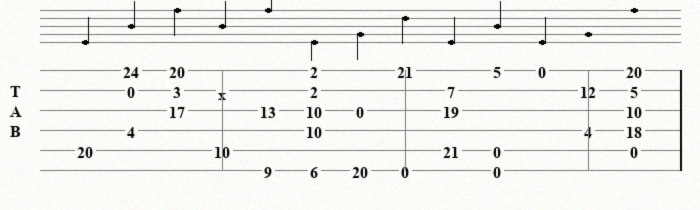0: (127, 83, 139, 98), (356, 103, 368, 118), (401, 163, 413, 178), (493, 143, 505, 158), (493, 163, 505, 178), (538, 63, 550, 78), (630, 143, 642, 158)
10: (214, 143, 234, 158), (306, 103, 326, 118), (306, 123, 326, 138), (626, 103, 646, 118)
12: (580, 83, 600, 98)
13: (260, 103, 280, 118)
17: (169, 103, 189, 118)
18: (626, 123, 646, 138)
19: (443, 103, 463, 118)
2: (310, 83, 322, 98), (310, 63, 322, 78)
20: (77, 143, 97, 158), (169, 63, 189, 78), (352, 163, 372, 178), (626, 63, 646, 78)
21: (397, 63, 417, 78), (443, 143, 463, 158)
24: (123, 63, 143, 78)
3: (173, 83, 185, 98)
4: (127, 123, 139, 138), (584, 123, 596, 138)
5: (493, 63, 505, 78), (630, 83, 642, 98)
6: (310, 163, 322, 178)
7: (447, 83, 459, 98)
9: (264, 163, 276, 178)
x: (218, 85, 230, 96)
